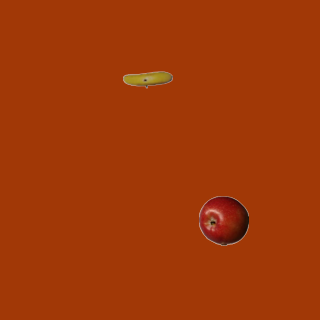Apple Braeburn: (198, 195, 248, 245)
Banana: (122, 54, 172, 104)
